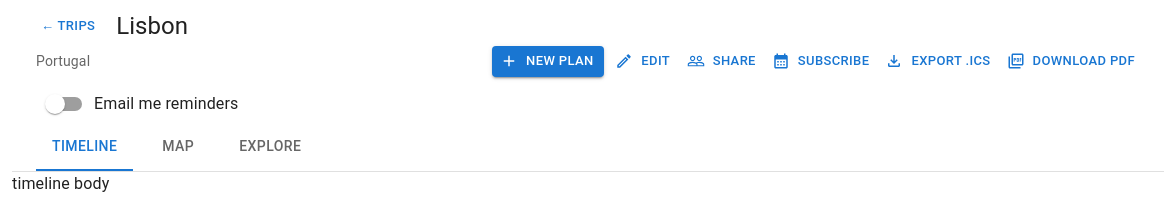
TripDetail › switches to the explore tab and back to timeline
Expected: the text with test id "outlet" reads "timeline body", [12,174,109,193]
Click the tab "Explore".
click(270, 147)  # box [223,123,317,171]
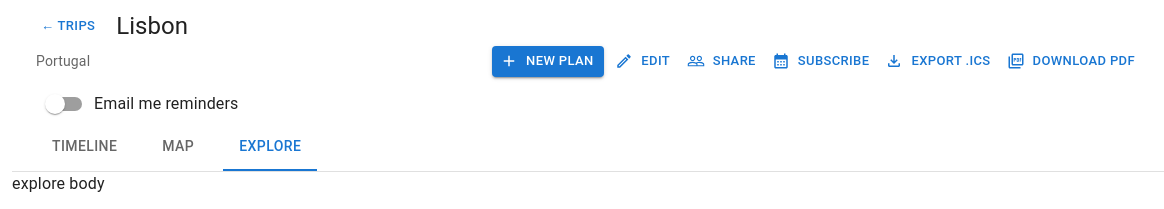
Expected: the text with test id "outlet" reads "explore body", [12,174,105,193]
Click the tab "Timeline".
click(85, 147)  # box [36,123,133,171]
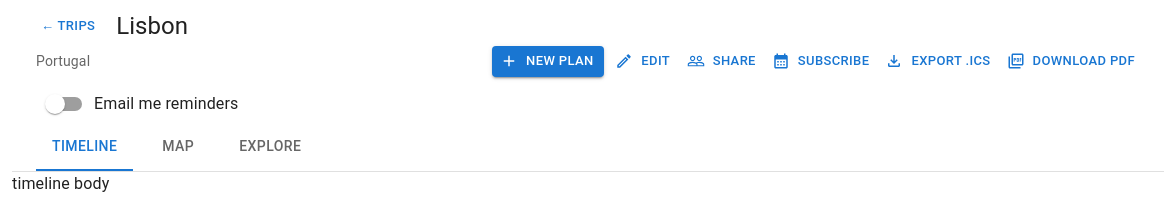
Expected: the text with test id "outlet" reads "timeline body", [12,174,109,193]
